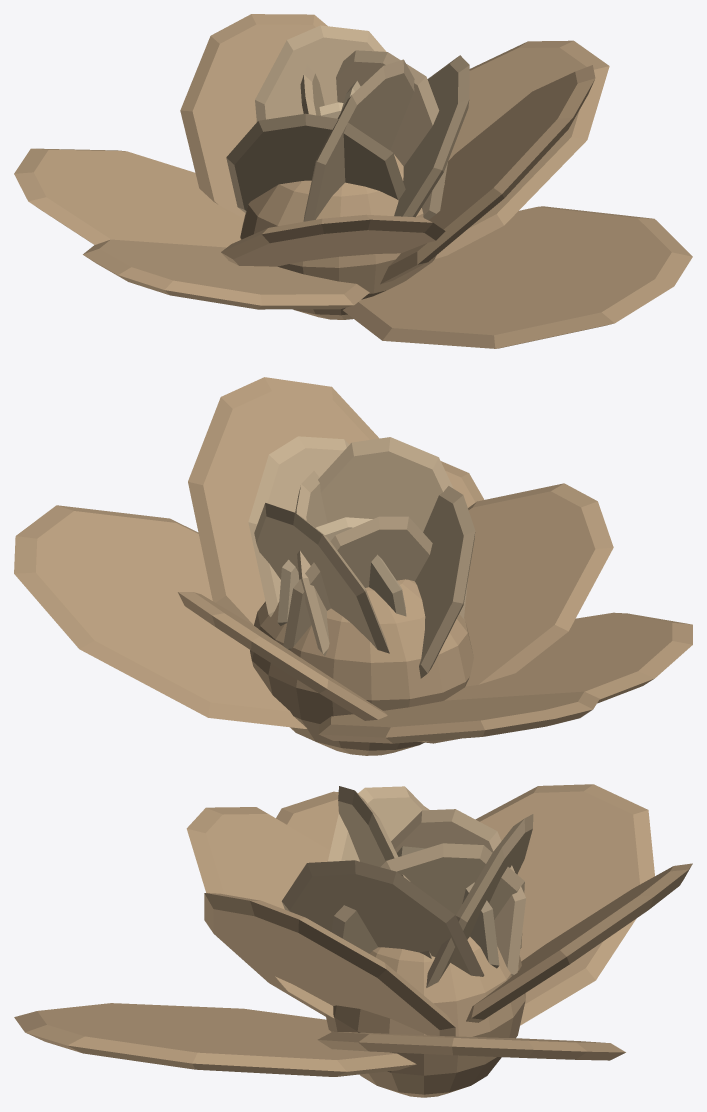
The model's file is gypsum-desert-rose.glb.
3 renders of one model, top to bottom at view 1: azimuth 30°, elevation 25°; view 2: azimuth 150°, elevation 25°; view 3: azimuth 270°, elevation 25°, orthographic. The views are drawn at different scales.
Visible parts, largest first — view 1: overlapping-tabular-crystals-with-hierarchical-sizes-and-ang, intergrown-sandy-gypsum-core; view 2: overlapping-tabular-crystals-with-hierarchical-sizes-and-ang, intergrown-sandy-gypsum-core; view 3: overlapping-tabular-crystals-with-hierarchical-sizes-and-ang, intergrown-sandy-gypsum-core.
Part boxes in pixels (<box>): overlapping-tabular-crystals-with-hierarchical-sizes-and-ang: <box>14,14,692,348</box>; intergrown-sandy-gypsum-core: <box>240,154,444,319</box>; overlapping-tabular-crystals-with-hierarchical-sizes-and-ang: <box>14,377,692,743</box>; intergrown-sandy-gypsum-core: <box>250,579,473,755</box>; overlapping-tabular-crystals-with-hierarchical-sizes-and-ang: <box>14,784,692,1076</box>; intergrown-sandy-gypsum-core: <box>325,937,525,1097</box>.
Size of the model in its own units: 0.16 by 0.0745 by 0.1545.
